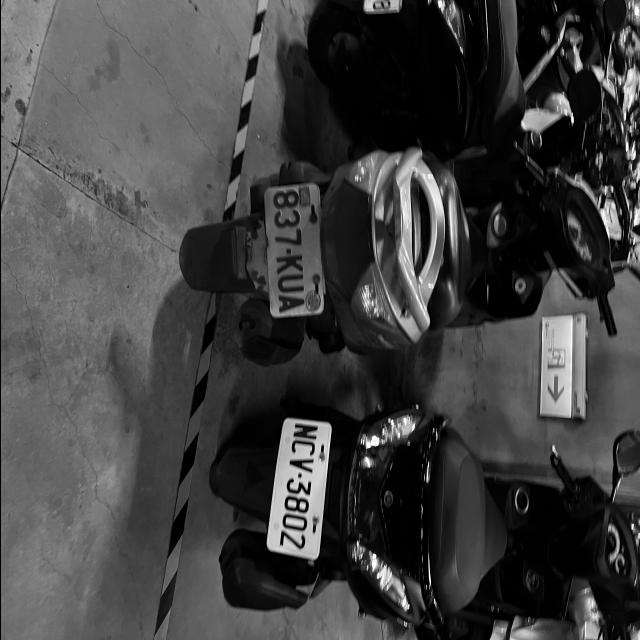-: (284, 248, 292, 254), (295, 472, 303, 478)
0: (281, 512, 308, 534)
2: (276, 529, 307, 550)
3: (284, 477, 311, 499), (274, 208, 302, 228)
7: (273, 228, 303, 248)
8: (281, 493, 311, 517), (274, 188, 300, 210)
A: (274, 294, 305, 316)
C: (288, 437, 317, 457)
K: (274, 255, 302, 275)
N: (292, 423, 318, 441)
U: (275, 276, 305, 294)
V: (286, 457, 314, 474)
plate: (264, 426, 330, 550), (268, 177, 321, 321)
